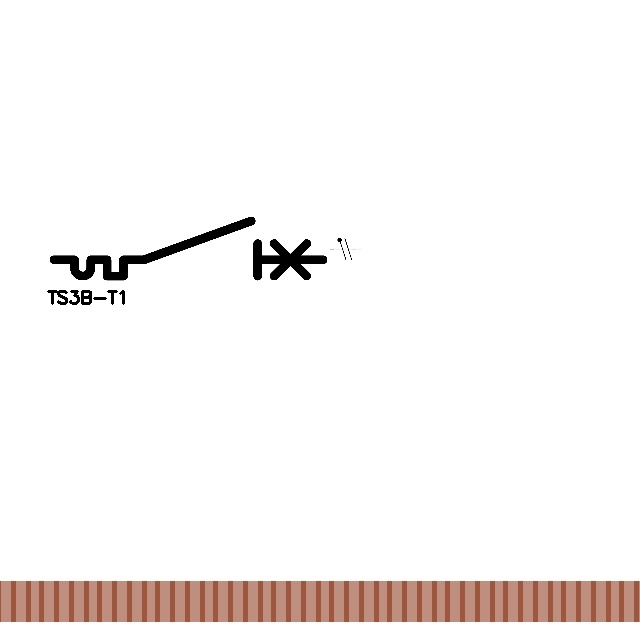interruptor_termomagnetico: (47, 214, 330, 283)
